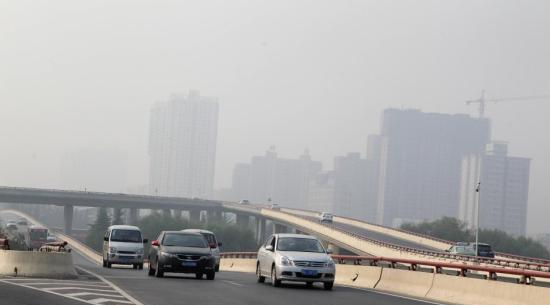bus: (26, 225, 51, 251)
car: (254, 233, 336, 288), (148, 230, 218, 281), (101, 224, 149, 270), (184, 230, 223, 274), (454, 242, 494, 258), (317, 212, 334, 224), (5, 220, 19, 230), (16, 217, 28, 226), (239, 198, 250, 206), (271, 202, 280, 211)
